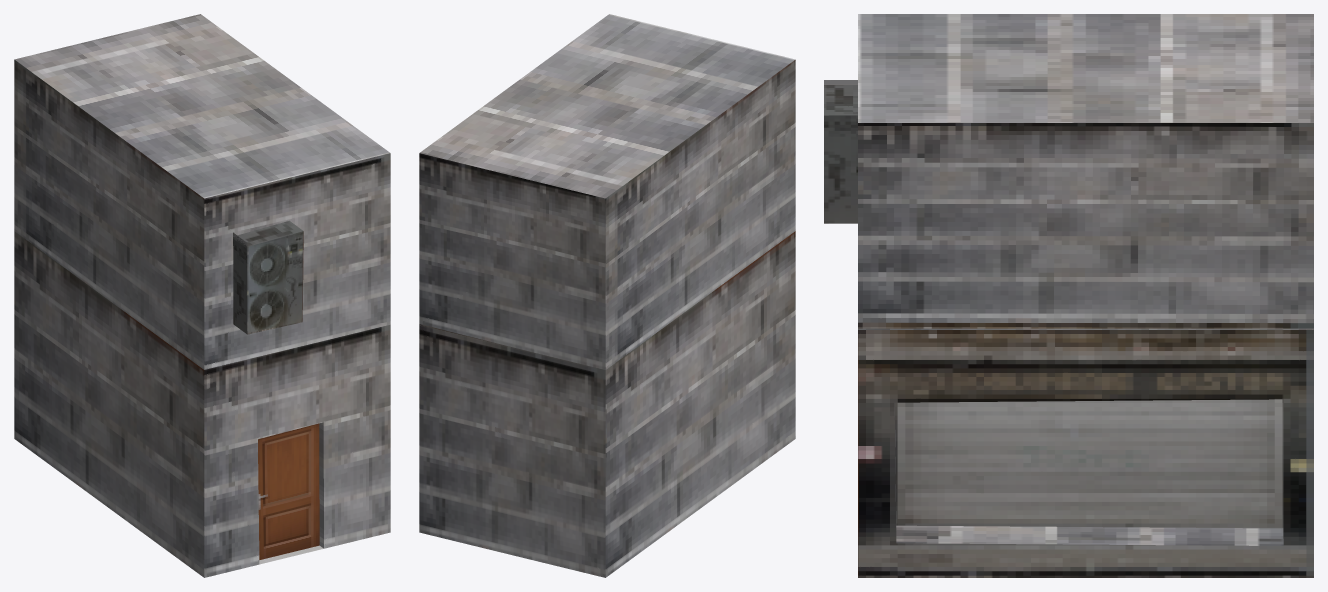
Rendered from House2.fbx.
The picture shows the model from 3 angles, left to right: view 1: azimuth 30°, elevation 25°; view 2: azimuth 150°, elevation 25°; view 3: azimuth 270°, elevation 25°; orthographic projection. The views are drawn at different scales.
Parts seen in each view (by area): view 1: Cube; view 2: Cube; view 3: Cube.
Part boxes in pixels (x1,y1,x2,y2): Cube: (14, 14, 390, 577); Cube: (419, 14, 795, 577); Cube: (824, 14, 1313, 577).
Size of the model in its own units: 1624 by 3160 by 3084.
Materials: 1 (1 with a texture image).
